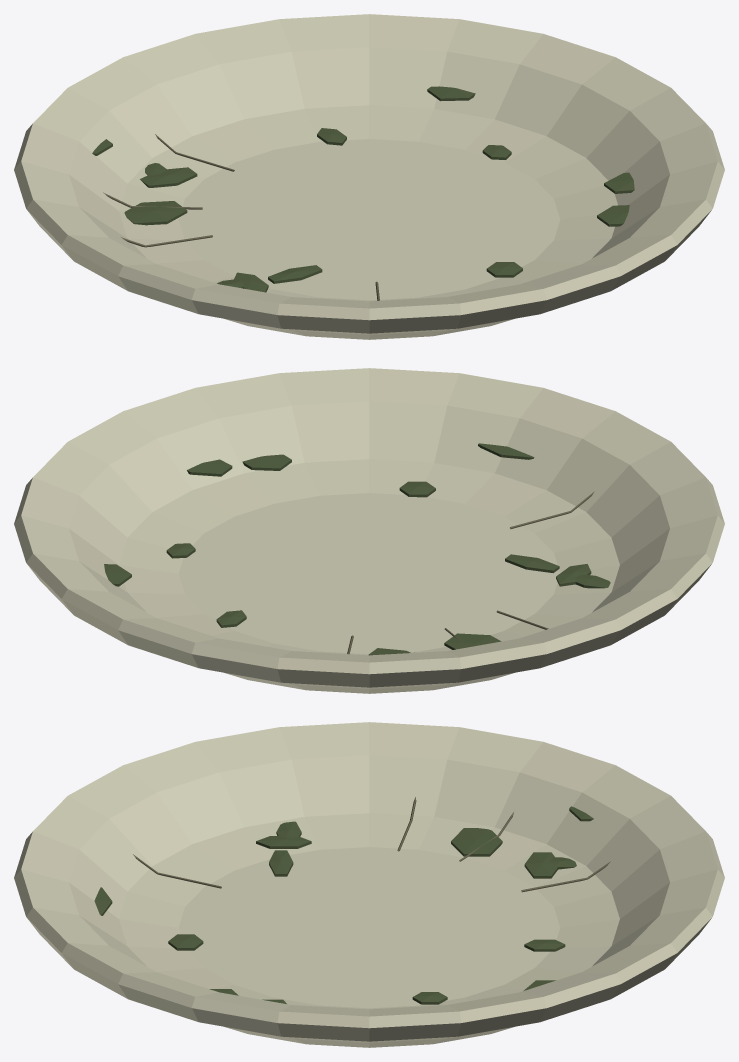
The model's file is MoldyCeramicPlate.fbx.
3 renders of one model, top to bottom at view 1: azimuth 30°, elevation 25°; view 2: azimuth 150°, elevation 25°; view 3: azimuth 270°, elevation 25°, orthographic.
Parts seen in each view (by area): view 1: MoldyCeramicPlate, Fungal colony.012, Fungal colony.007, Fungal colony.001, Fungal colony.008, Fungal colony.013; view 2: MoldyCeramicPlate, Fungal colony.013, Fungal colony.012, Fungal colony.001, Fungal colony; view 3: MoldyCeramicPlate, Fungal colony.012, Fungal colony.007, Fungal colony.006, Fungal colony.001.
Part boxes in pixels (x1=…): MoldyCeramicPlate: x1=14, y1=14, x2=724, y2=339; Fungal colony.012: x1=124, y1=201, x2=187, y2=225; Fungal colony.007: x1=140, y1=167, x2=197, y2=187; Fungal colony.001: x1=268, y1=265, x2=322, y2=283; Fungal colony.008: x1=427, y1=86, x2=475, y2=101; Fungal colony.013: x1=597, y1=205, x2=629, y2=226; MoldyCeramicPlate: x1=14, y1=368, x2=724, y2=693; Fungal colony.013: x1=242, y1=454, x2=291, y2=470; Fungal colony.012: x1=444, y1=633, x2=501, y2=649; Fungal colony.001: x1=505, y1=554, x2=559, y2=573; Fungal colony: x1=187, y1=459, x2=232, y2=476; MoldyCeramicPlate: x1=14, y1=722, x2=724, y2=1047; Fungal colony.012: x1=451, y1=828, x2=502, y2=856; Fungal colony.007: x1=524, y1=852, x2=557, y2=878; Fungal colony.006: x1=256, y1=836, x2=311, y2=848; Fungal colony.001: x1=269, y1=850, x2=293, y2=876.
Bounding box in the file's own units: 29.8 × 4 × 29.8.
